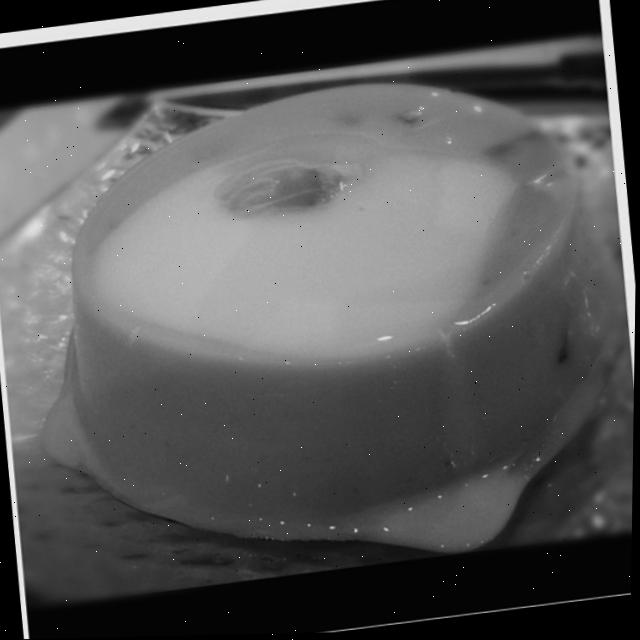蛋糕甜品: (0, 14, 640, 600)
